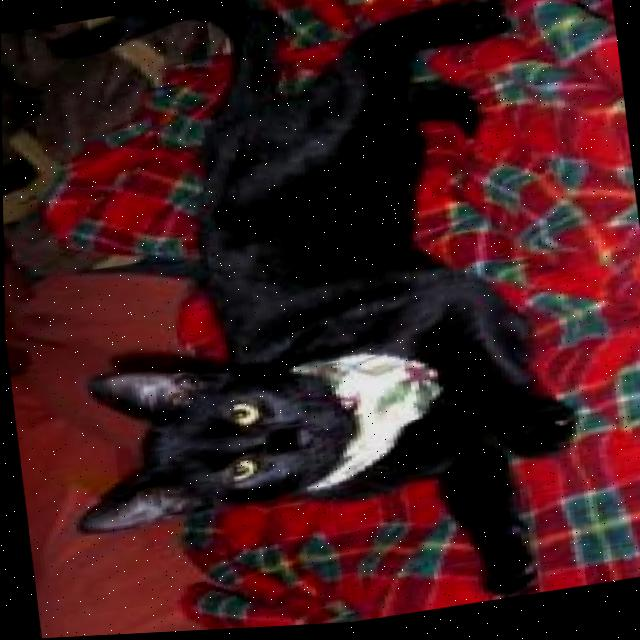Bombay: (7, 0, 600, 640)
